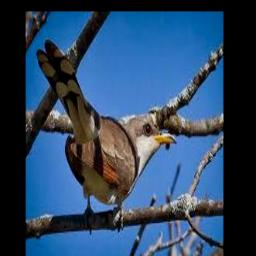Cuckoo: (37, 39, 177, 216)
